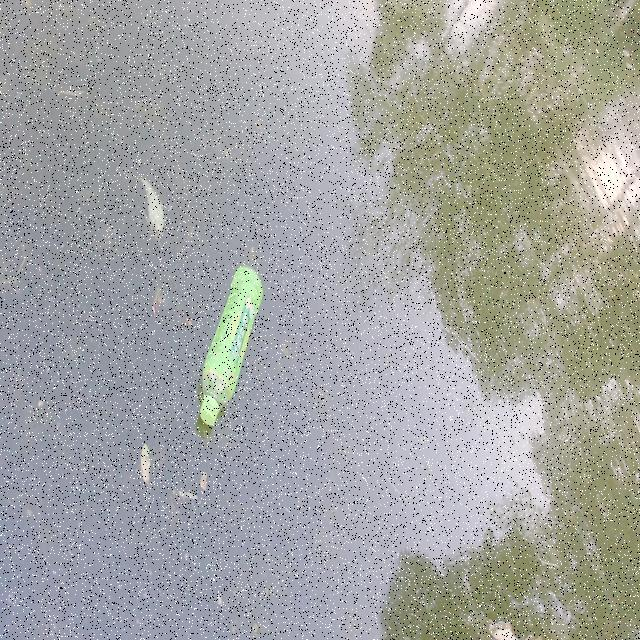Bottle: (197, 259, 264, 429)
